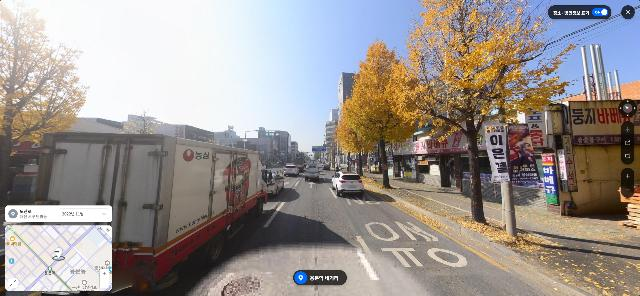ginkgo: (382, 0, 578, 224), (342, 40, 412, 191), (333, 97, 369, 177)
